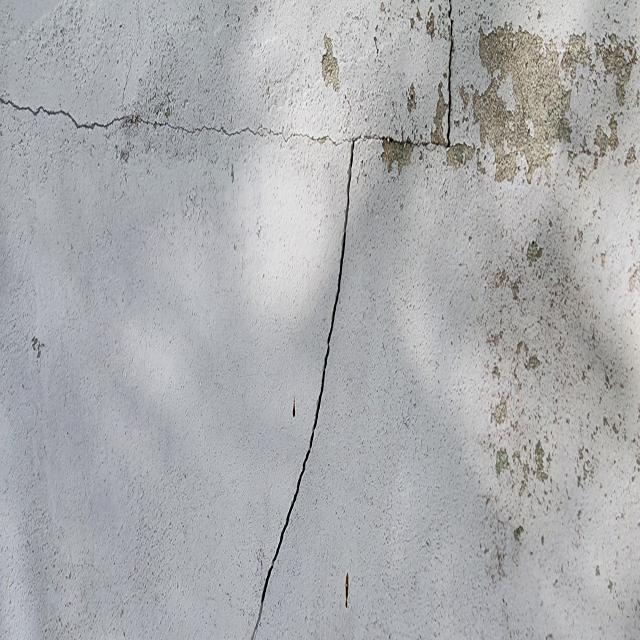SurfaceCrack: (231, 118, 388, 640)
